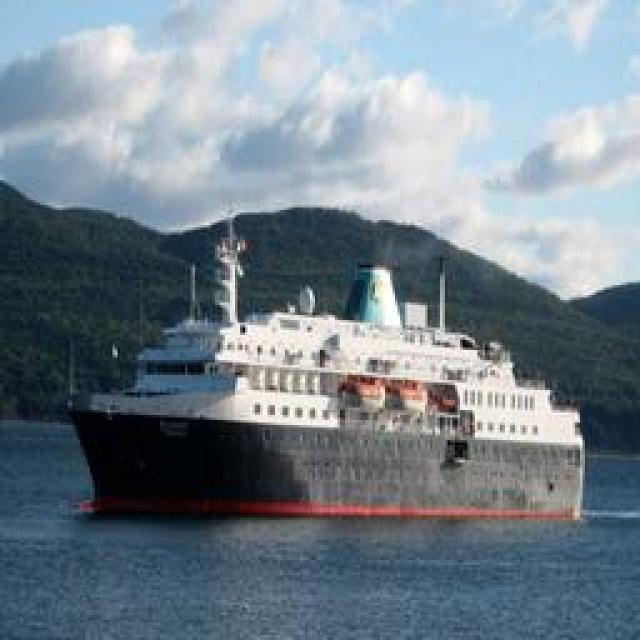ship2: (68, 220, 586, 525)
